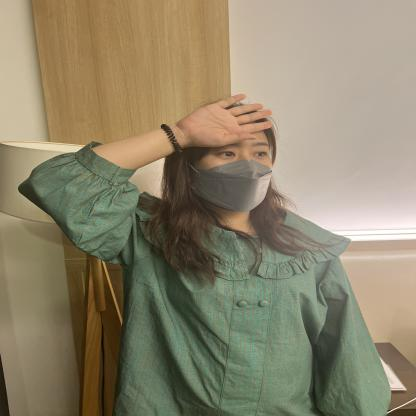Sick: (76, 87, 405, 218)
